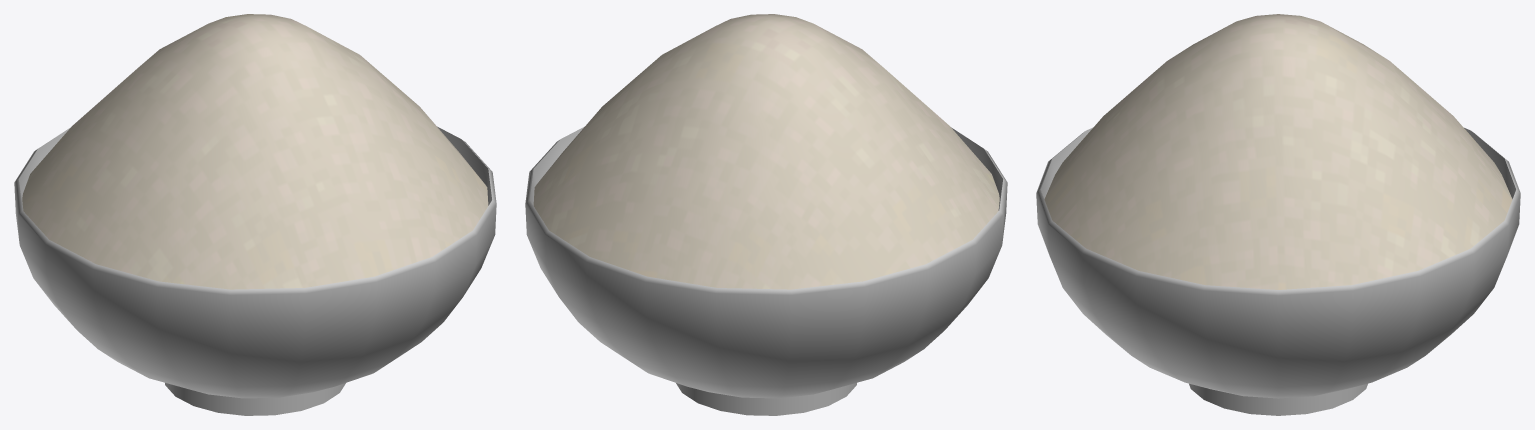
File: Rice.fbx
3 views of the same model, side by side, from view 1: azimuth 30°, elevation 25°; view 2: azimuth 150°, elevation 25°; view 3: azimuth 270°, elevation 25° (orthographic).
Parts seen in each view (by area): view 1: RiceBowl; view 2: RiceBowl; view 3: RiceBowl.
Part boxes in pixels (<box>): RiceBowl: <box>14,14,496,415</box>; RiceBowl: <box>525,14,1007,415</box>; RiceBowl: <box>1036,14,1520,415</box>.
Size of the model in its own units: 64.37 by 51.9 by 64.37.
